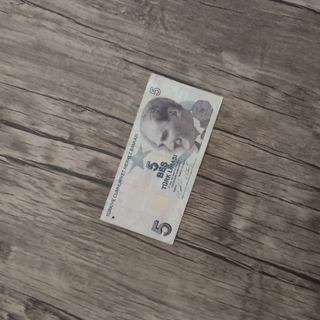5TLFront: (98, 72, 224, 246)
